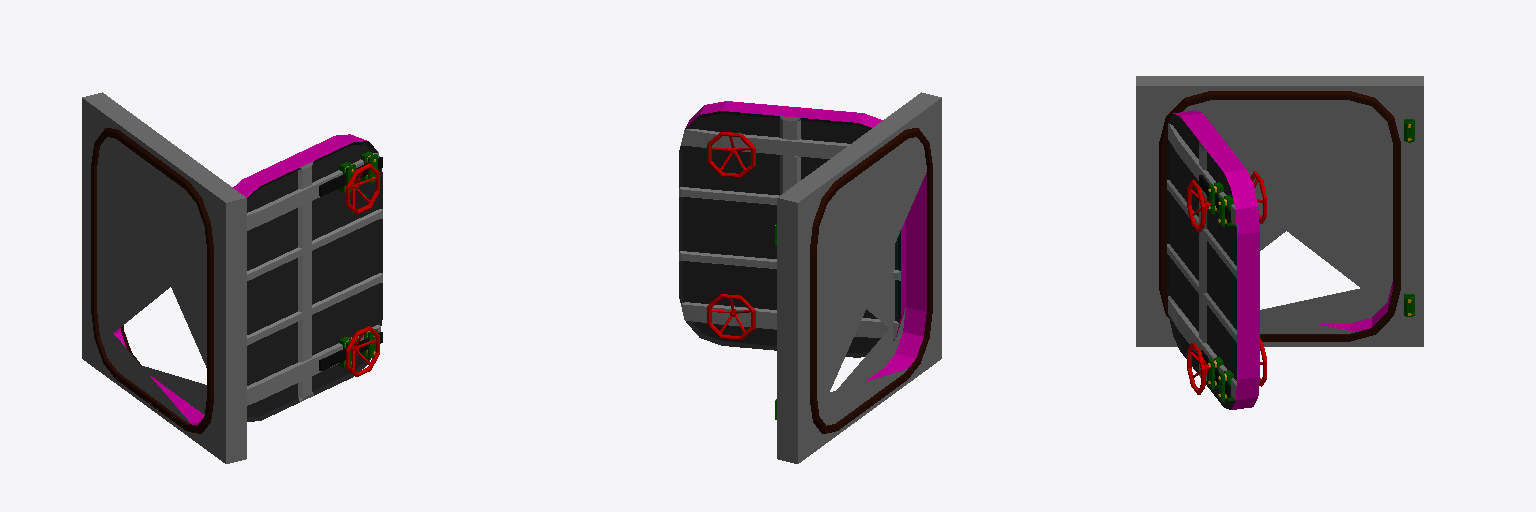
The model's file is water_door.obj.
3 renders of one model, left to right at view 1: azimuth 30°, elevation 25°; view 2: azimuth 150°, elevation 25°; view 3: azimuth 270°, elevation 25°, orthographic.
Visible parts, largest first — view 1: frame_Cube.001, door_Cube.003, bolt_Cube.013, spinny_lower_Cylinder.002, spinny_upper_Cylinder.004; view 2: frame_Cube.001, door_Cube.003, spinny_upper_Cylinder.004, spinny_lower_Cylinder.002; view 3: frame_Cube.001, door_Cube.003, spinny_upper_Cylinder.004, spinny_lower_Cylinder.002.
Part boxes in pixels (bbox=[...]): frame_Cube.001: bbox=[82, 92, 246, 463]; door_Cube.003: bbox=[233, 134, 382, 421]; bolt_Cube.013: bbox=[319, 157, 382, 370]; spinny_lower_Cylinder.002: bbox=[346, 326, 379, 376]; spinny_upper_Cylinder.004: bbox=[346, 164, 379, 214]; frame_Cube.001: bbox=[775, 92, 941, 463]; door_Cube.003: bbox=[679, 101, 905, 357]; spinny_upper_Cylinder.004: bbox=[707, 132, 755, 177]; spinny_lower_Cylinder.002: bbox=[707, 294, 755, 340]; frame_Cube.001: bbox=[1136, 76, 1423, 346]; door_Cube.003: bbox=[1167, 110, 1259, 409]; spinny_upper_Cylinder.004: bbox=[1187, 171, 1266, 232]; spinny_lower_Cylinder.002: bbox=[1187, 339, 1266, 394].
Size of the model in its own units: 2.53 by 3 by 3.